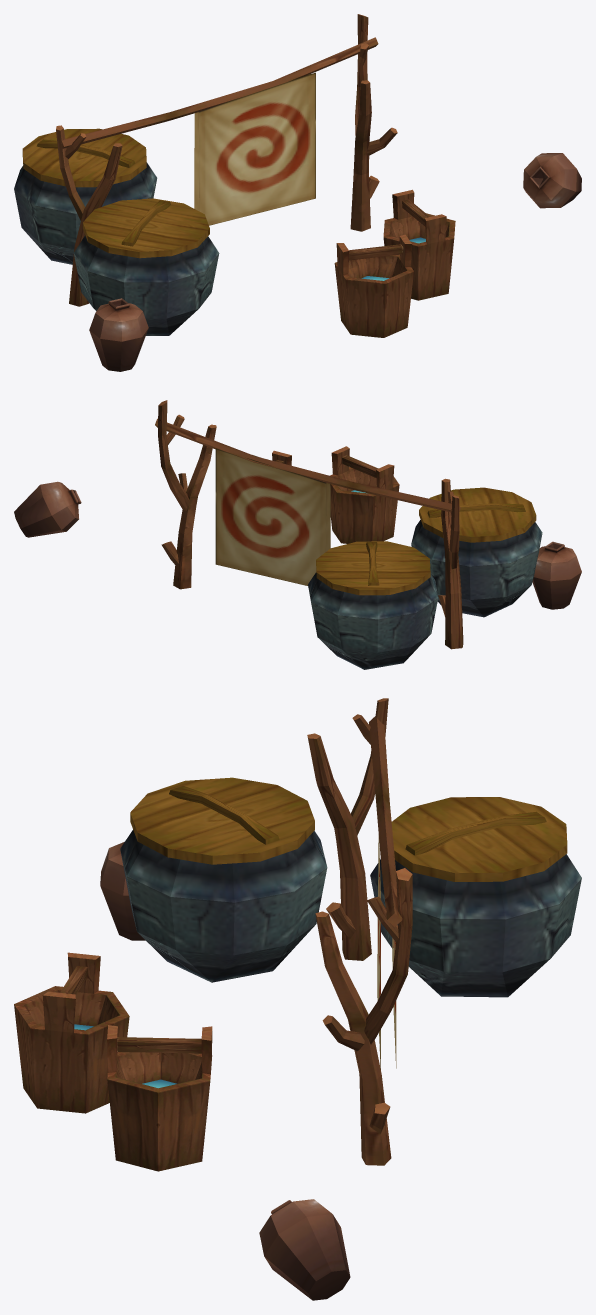
The model's file is cunlou_xiaowujian20.FBX.
3 views of the same model, one above another, from view 1: azimuth 30°, elevation 25°; view 2: azimuth 150°, elevation 25°; view 3: azimuth 270°, elevation 25° (orthographic). The views are drawn at different scales.
Parts seen in each view (by area): view 1: cunlou_xiaowujian20; view 2: cunlou_xiaowujian20; view 3: cunlou_xiaowujian20.
Boxes of the visible parts, bbox=[...] form: cunlou_xiaowujian20: bbox=[14, 14, 581, 371]; cunlou_xiaowujian20: bbox=[14, 400, 581, 669]; cunlou_xiaowujian20: bbox=[14, 698, 581, 1300].
Bounding box in the file's own units: 375 × 137 × 232.
